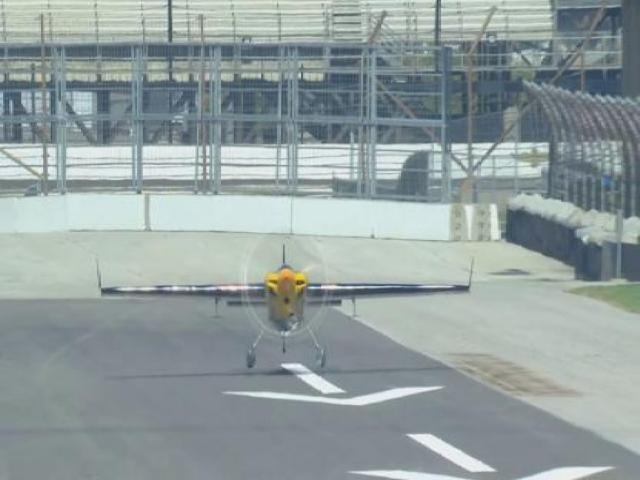uav: (92, 238, 476, 371)
